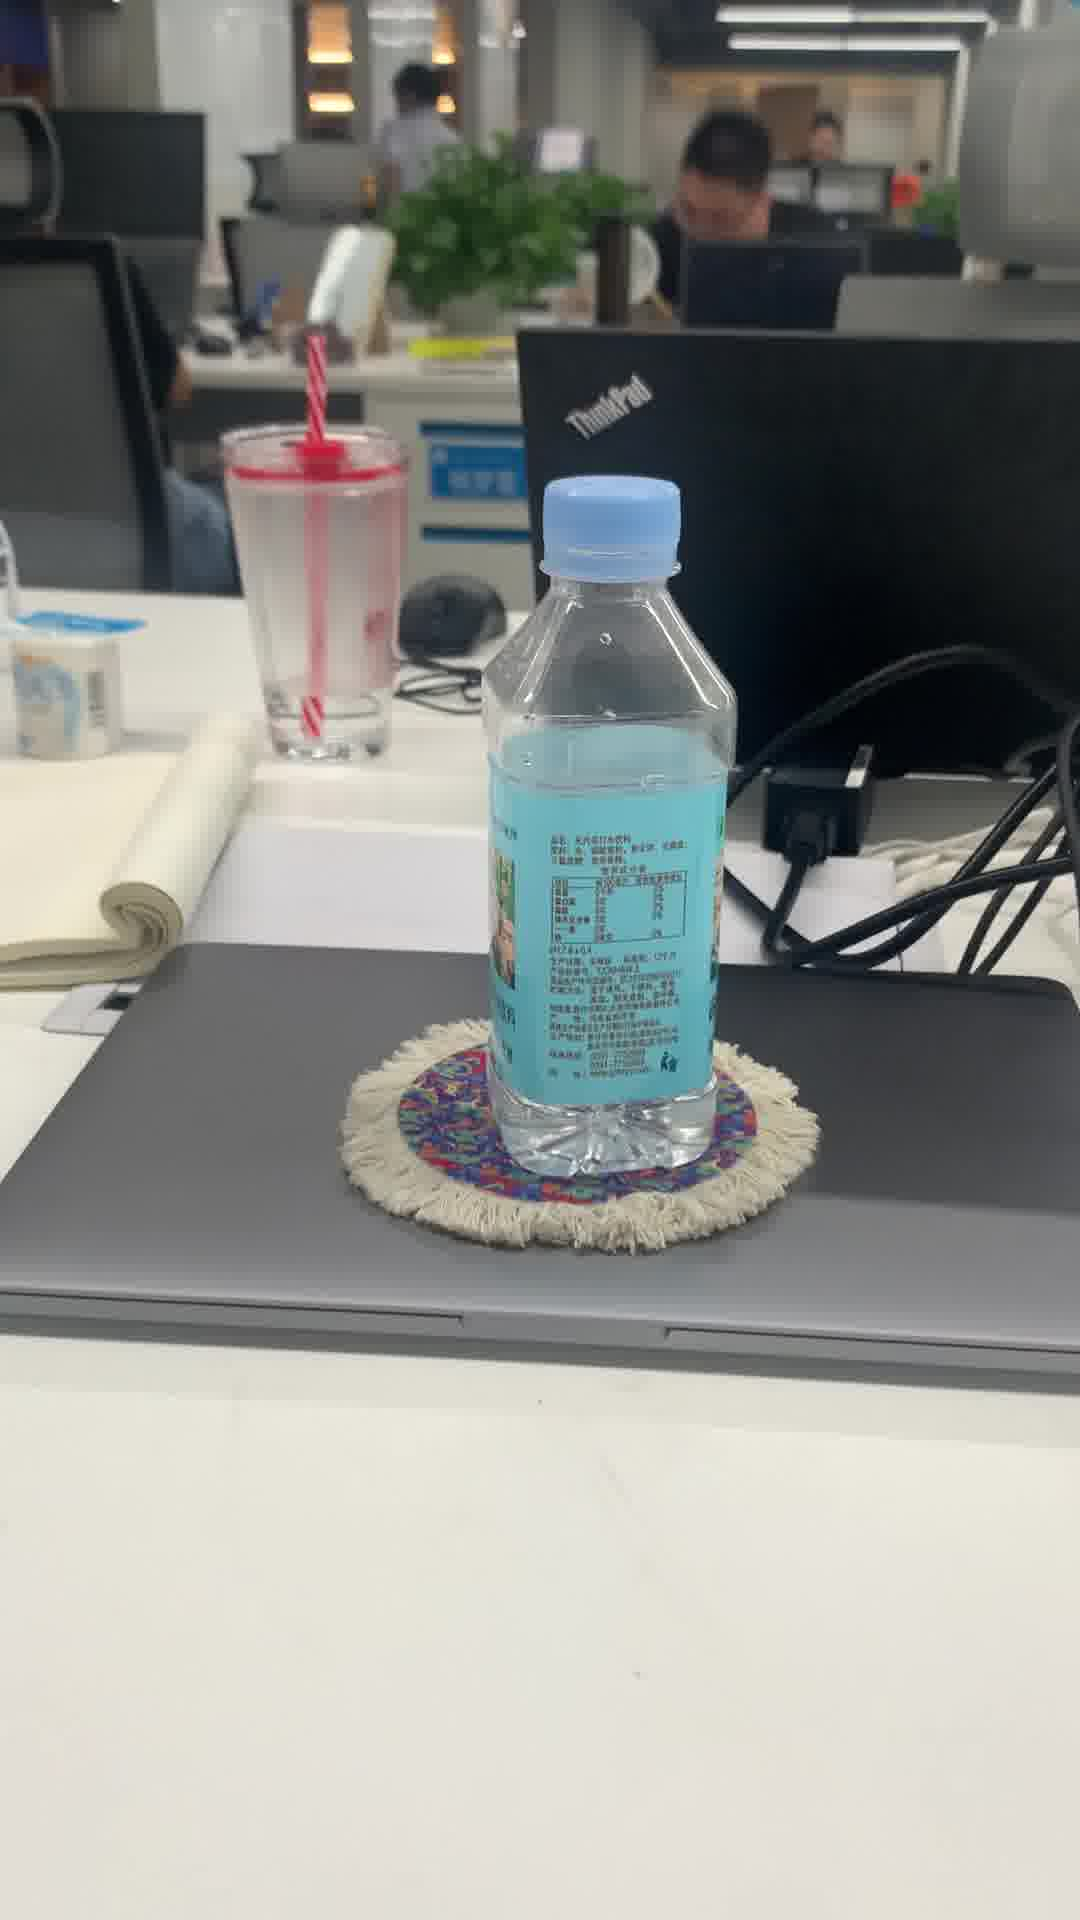水瓶: (479, 467, 731, 1185)
